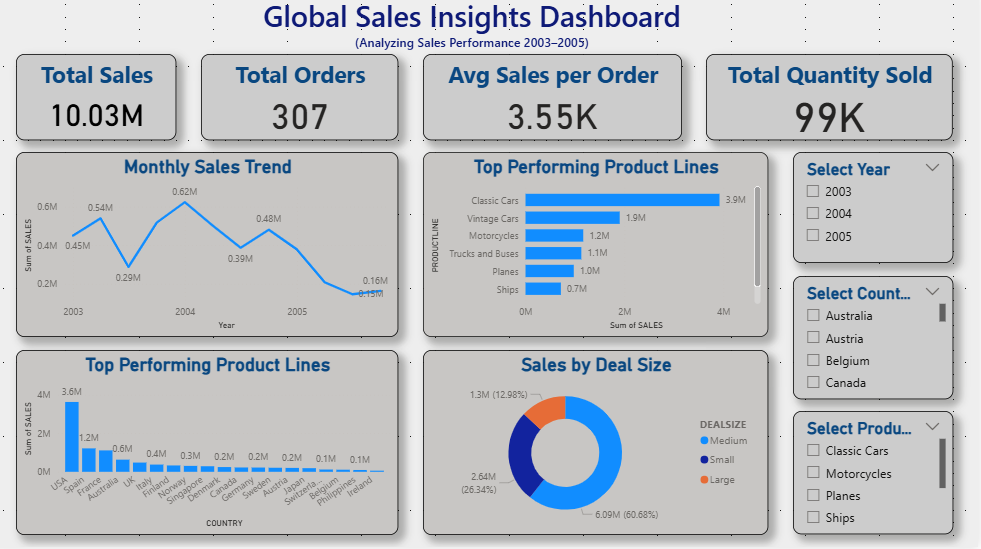

The dashboard page shown, as its layout file describes it:
{"tool":"powerbi","page":{"name":"Page 1","canvas":[1280,720],"ordinal":0},"visuals":[{"type":"textbox","box":[0,0,1248,80],"z":0},{"type":"card","title":"Total Sales","fields":{"Values":["Sum(sales_data_sample.SALES)"]},"box":[32,80,208,112],"z":1000},{"type":"card","title":"Total Orders","fields":{"Values":["Count(sales_data_sample.ORDERNUMBER)"]},"box":[272,80,256,112],"z":2000},{"type":"card","title":"Avg Sales per Order","fields":{"Values":["Avg(sales_data_sample.SALES)"]},"box":[560,80,336,112],"z":3000},{"type":"card","title":"Total Quantity Sold","fields":{"Values":["Sum(sales_data_sample.QUANTITYORDERED)"]},"box":[928,80,320,112],"z":4000},{"type":"lineChart","title":"Monthly Sales Trend","fields":{"Category":["sales_data_sample.ORDERDATE.Variation.Date Hierarchy.Year","sales_data_sample.ORDERDATE.Variation.Date Hierarchy.Quarter","sales_data_sample.ORDERDATE.Variation.Date Hierarchy.Month","sales_data_sample.ORDERDATE.Variation.Date Hierarchy.Day"],"Y":["Sum(sales_data_sample.SALES)"]},"box":[32,208,496,240],"z":5000},{"type":"clusteredBarChart","title":"Top Performing Product Lines","fields":{"Category":["sales_data_sample.PRODUCTLINE"],"Y":["Sum(sales_data_sample.SALES)"]},"box":[560,208,448,240],"z":6000},{"type":"clusteredColumnChart","title":"Top Performing Product Lines","fields":{"Category":["sales_data_sample.COUNTRY"],"Y":["Sum(sales_data_sample.SALES)"]},"box":[32,464,496,240],"z":7000},{"type":"donutChart","title":"Sales by Deal Size","fields":{"Category":["sales_data_sample.DEALSIZE"],"Y":["Sum(sales_data_sample.SALES)"]},"box":[560,464,448,240],"z":8000},{"type":"slicer","title":"Total Sales","fields":{"Values":["sales_data_sample.YEAR_ID"]},"box":[1040,208,208,144],"z":9000},{"type":"slicer","title":"Total Sales","fields":{"Values":["sales_data_sample.COUNTRY"]},"box":[1040,368,208,160],"z":10000},{"type":"slicer","title":"Total Sales","fields":{"Values":["sales_data_sample.PRODUCTLINE"]},"box":[1040,544,208,160],"z":11000}]}

Visuals, with their boxes in screenshot pixels (x1, y1, x2, y2), scaled from the page's 1280x720 canvas onto the 981x549 screenshot:
textbox: Rect(0, 0, 956, 61)
"Total Sales" card: Rect(25, 61, 184, 146)
"Total Orders" card: Rect(208, 61, 405, 146)
"Avg Sales per Order" card: Rect(429, 61, 687, 146)
"Total Quantity Sold" card: Rect(711, 61, 956, 146)
"Monthly Sales Trend" lineChart: Rect(25, 159, 405, 342)
"Top Performing Product Lines" clusteredBarChart: Rect(429, 159, 773, 342)
"Top Performing Product Lines" clusteredColumnChart: Rect(25, 354, 405, 537)
"Sales by Deal Size" donutChart: Rect(429, 354, 773, 537)
"Total Sales" slicer: Rect(797, 159, 956, 268)
"Total Sales" slicer: Rect(797, 281, 956, 403)
"Total Sales" slicer: Rect(797, 415, 956, 537)
